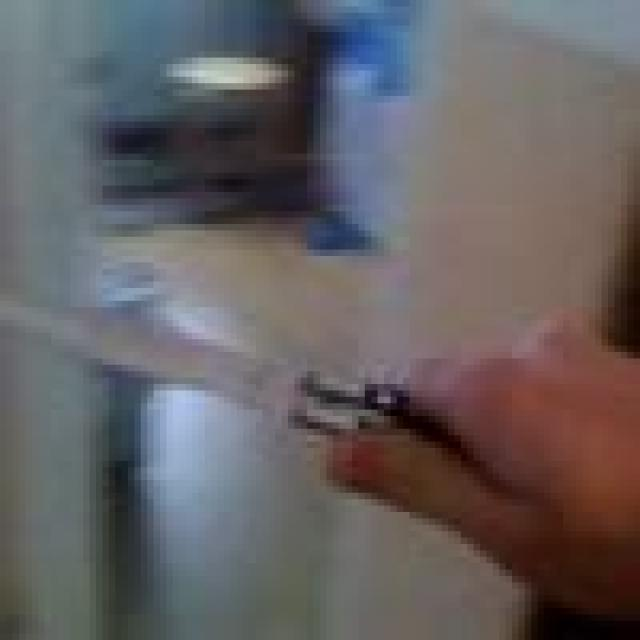knife: (23, 306, 402, 432)
